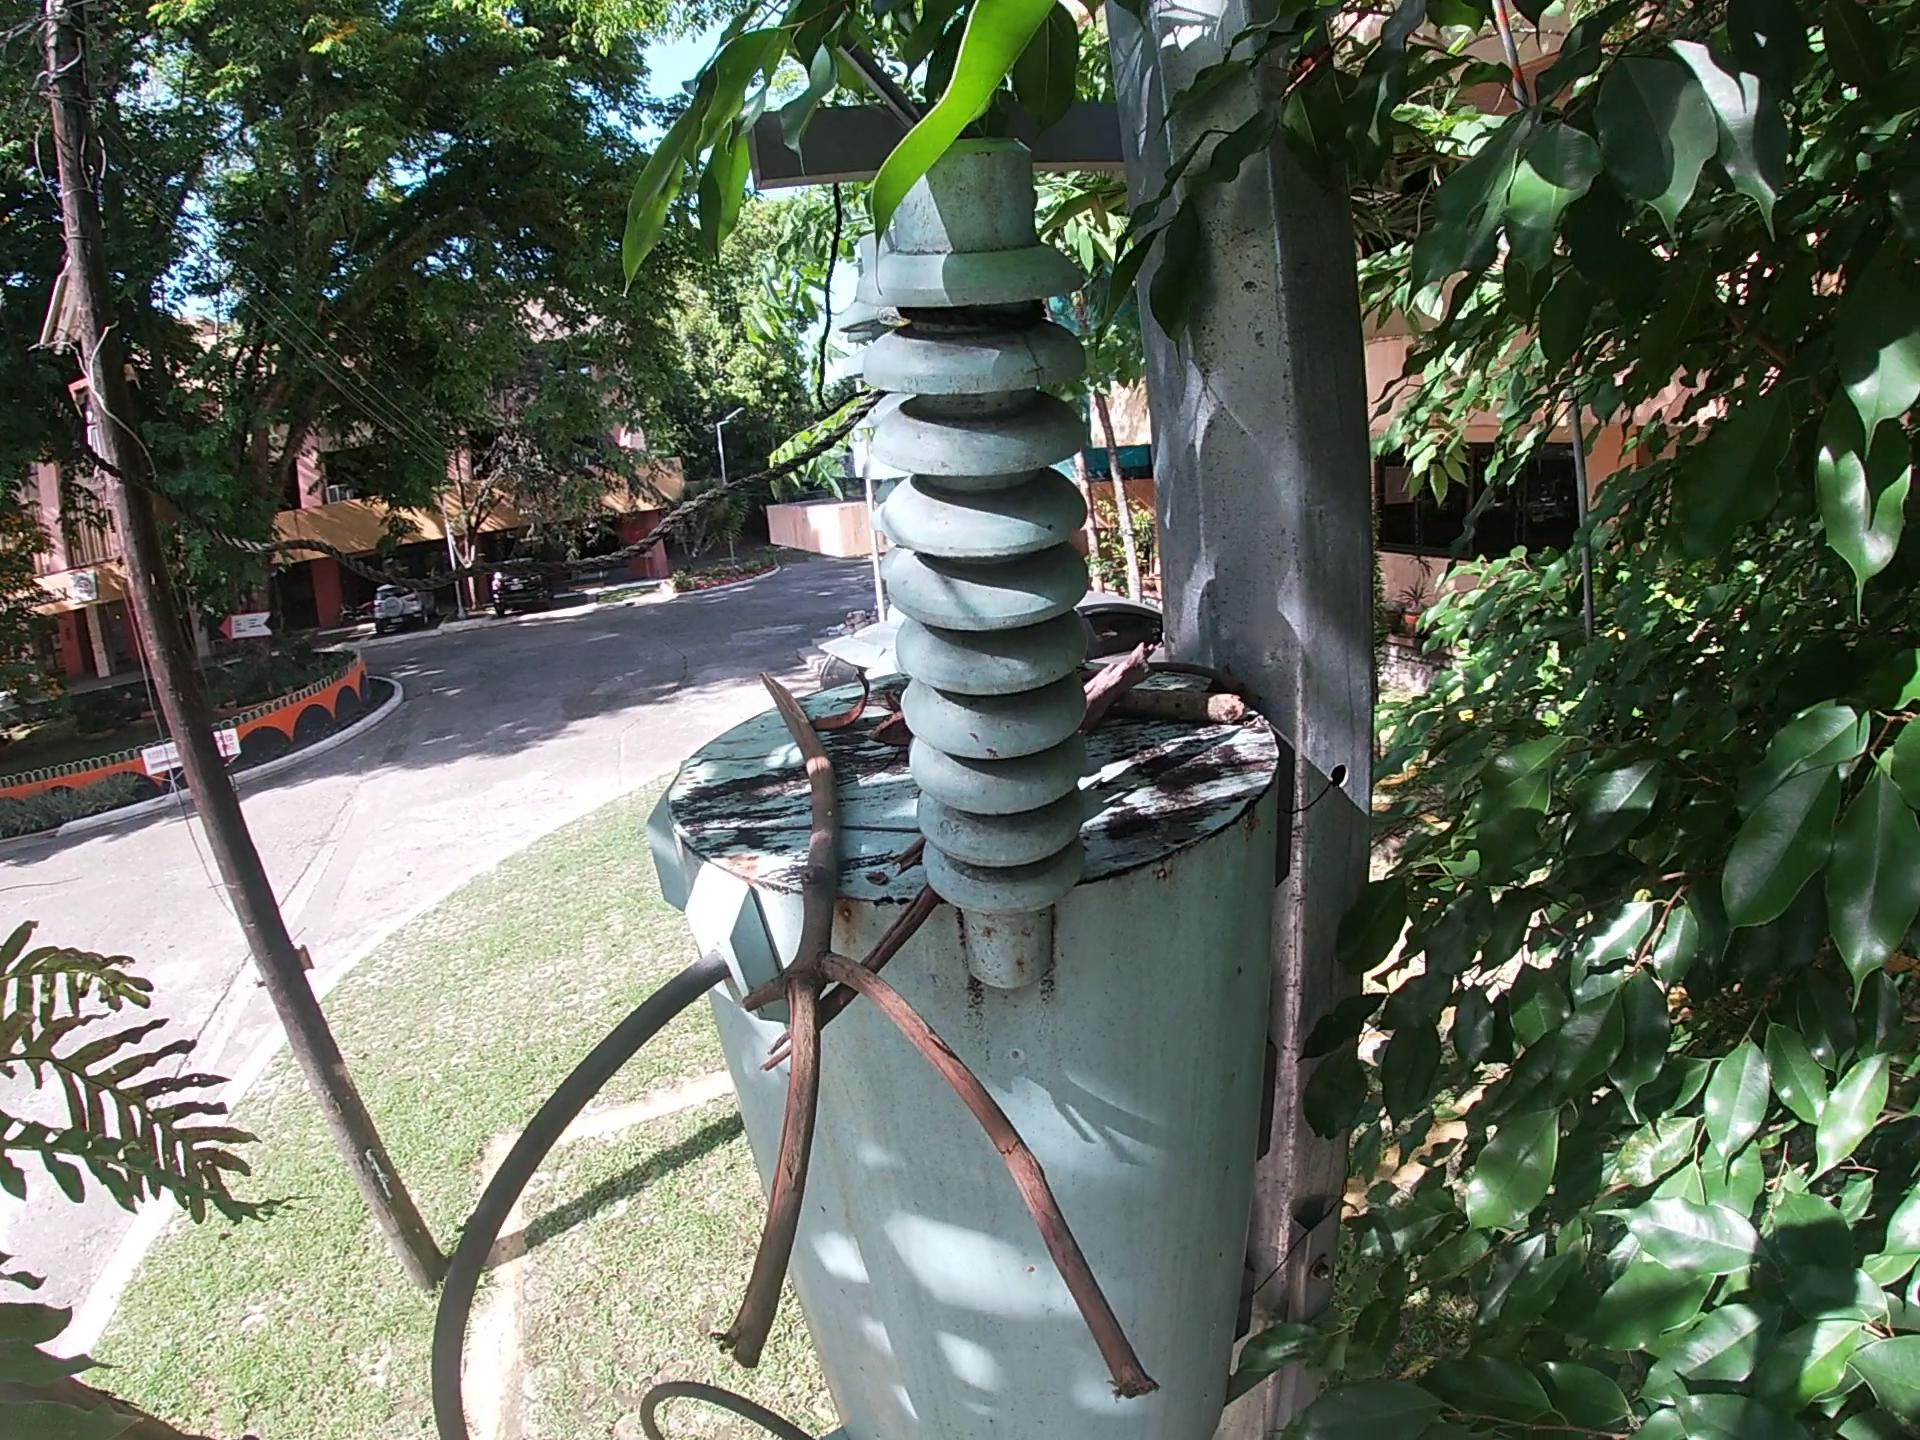mahogany fruit: (807, 663, 878, 740), (865, 709, 915, 756)
tree branch: (701, 656, 1169, 1414), (760, 882, 952, 1080), (1075, 641, 1160, 734), (1137, 655, 1268, 706), (1102, 685, 1249, 728)
